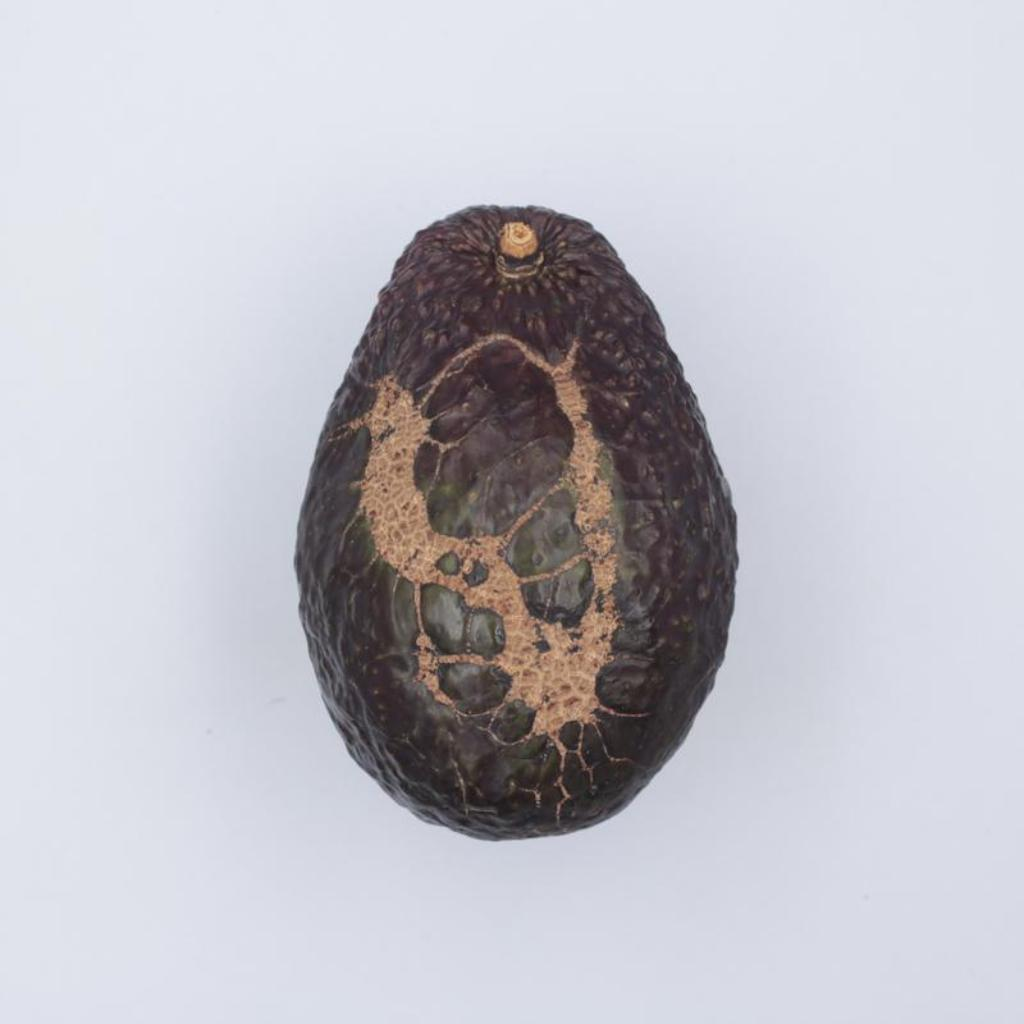scab: (296, 207, 736, 840)
